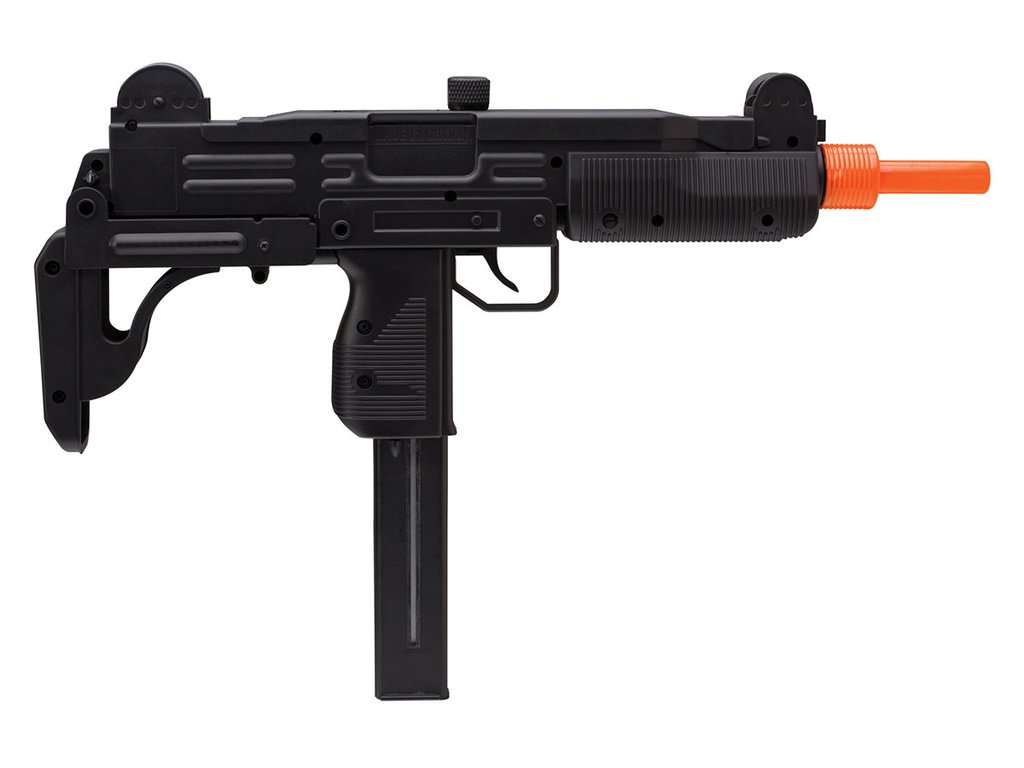Arma Falsa: (31, 57, 1004, 705)
